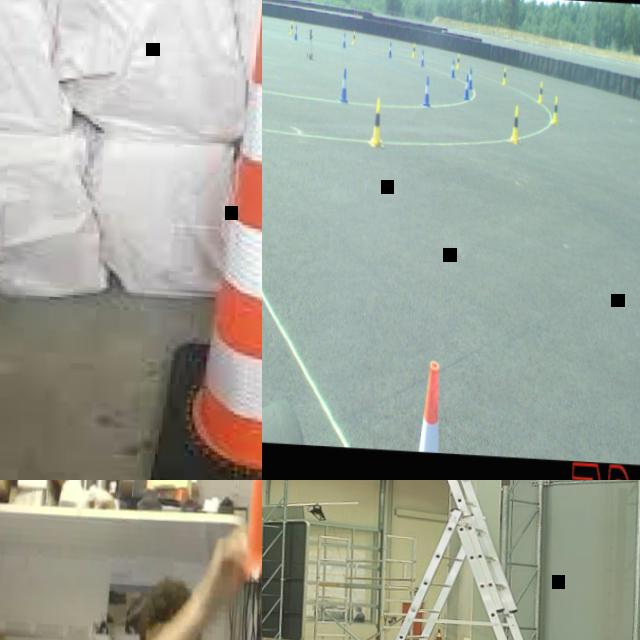NO-Hardhat: (139, 574, 195, 640)
Person: (92, 503, 262, 640)
Safety Cone: (149, 0, 262, 480), (416, 362, 445, 451), (369, 97, 386, 147), (509, 103, 522, 144), (339, 68, 349, 103), (422, 76, 431, 106), (551, 95, 559, 123), (463, 74, 470, 99), (538, 80, 544, 104), (468, 67, 473, 89), (450, 59, 456, 77), (502, 65, 507, 84), (294, 24, 298, 39), (342, 33, 346, 48), (388, 42, 392, 57), (421, 50, 425, 65), (456, 53, 460, 68), (411, 42, 415, 56), (351, 30, 355, 44), (289, 20, 293, 34)
